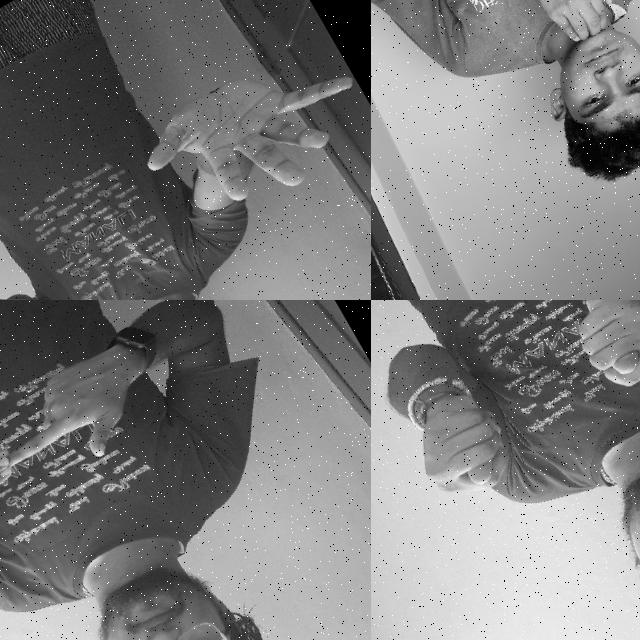Chin Flick: (476, 0, 640, 203)
Dulya: (388, 370, 538, 525), (551, 300, 640, 406)
Five Fathers: (0, 318, 169, 559)
Moutza: (119, 2, 371, 248)
